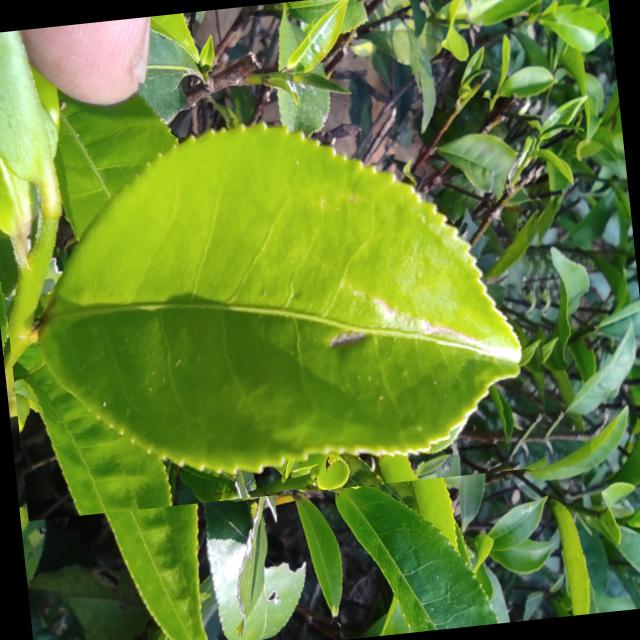Category C 4-7 days: (0, 82, 571, 520)
